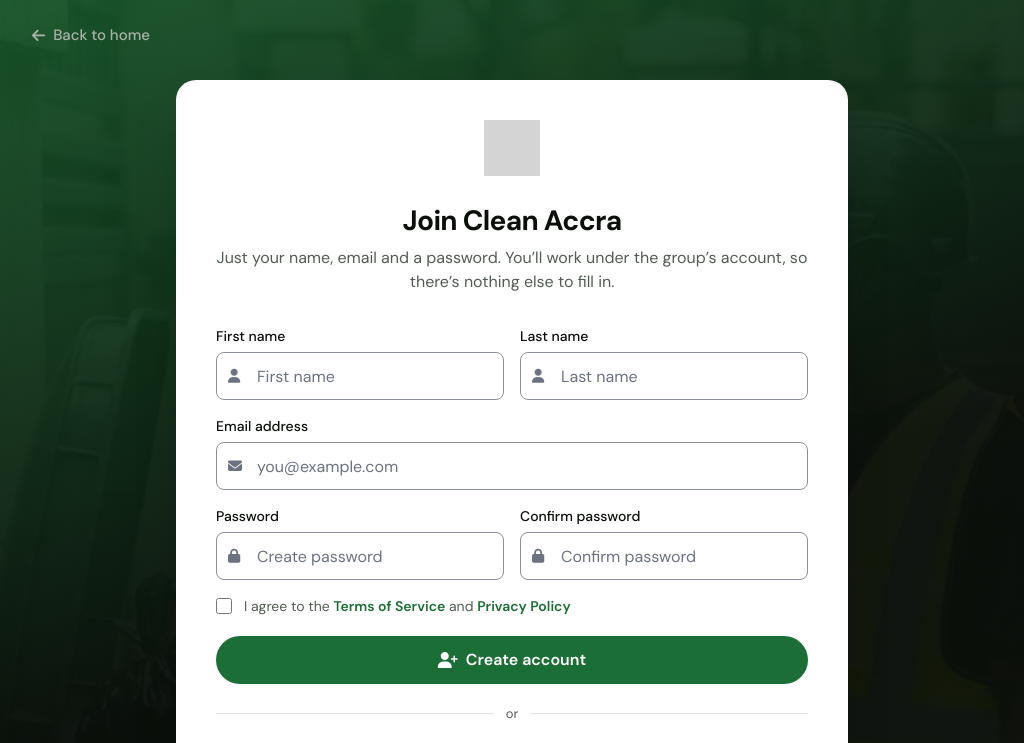
Scenario: through an invite link: asks only for the person’s own details and ties the account to the group
The width and height of the screenshot is (1024, 743).
Expected: the heading "Join Clean Accra" is shown, left=402, top=202, right=621, bottom=239
Type "Ama" into the field labelled "First name".
click(360, 376); type("Ama")  # box left=216, top=352, right=504, bottom=400
Type "Mensah" into the field labelled "Last name".
click(664, 376); type("Mensah")  # box left=520, top=352, right=808, bottom=400
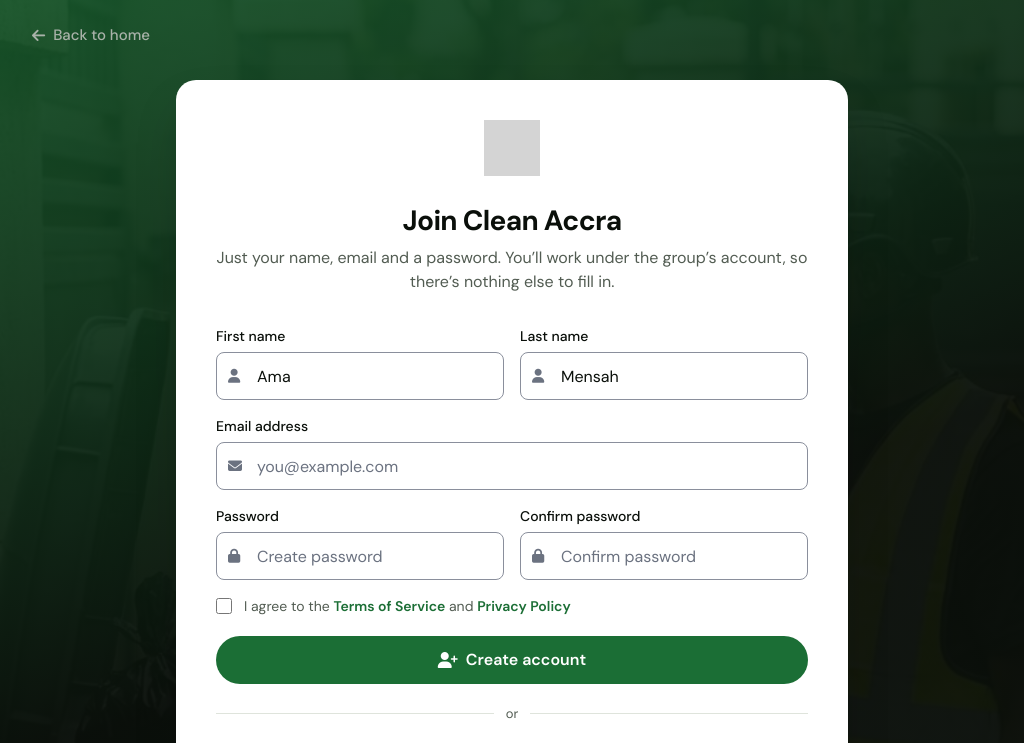
Type "ama@example.com" into the field labelled "Email address".
click(512, 466); type("ama@example.com")  # box left=216, top=442, right=808, bottom=490
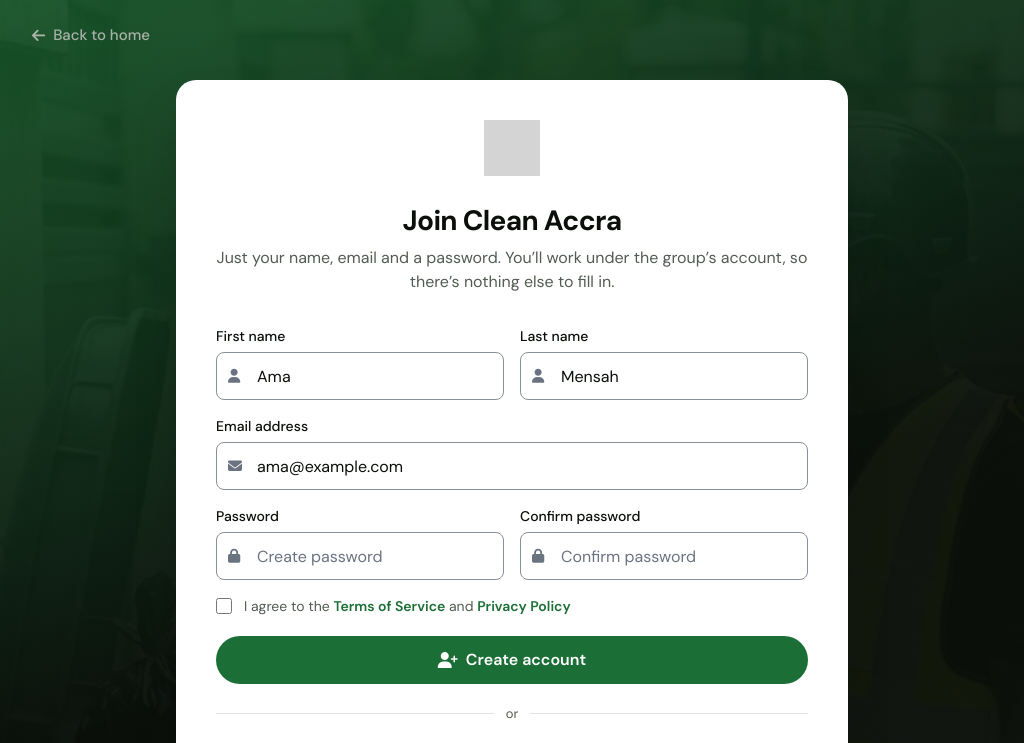
Type "Strong-pass1" into the password field labelled "Password".
click(360, 556); type("Strong-pass1")  # box left=216, top=532, right=504, bottom=580
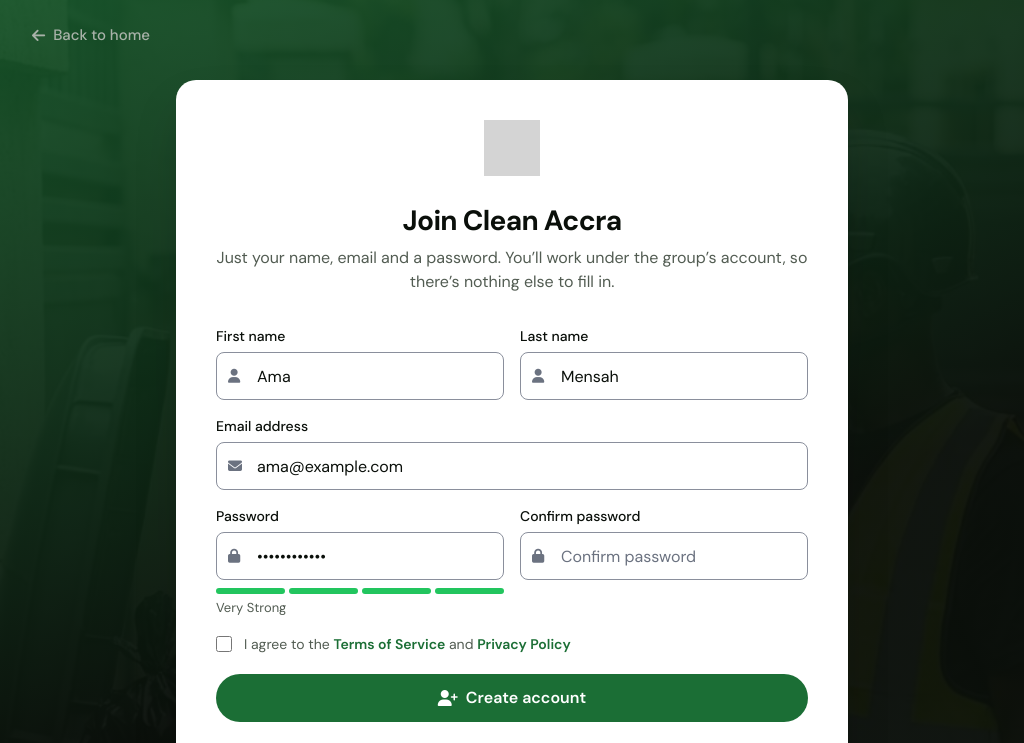
Type "Strong-pass1" into the password field labelled "Confirm password".
click(664, 556); type("Strong-pass1")  # box left=520, top=532, right=808, bottom=580
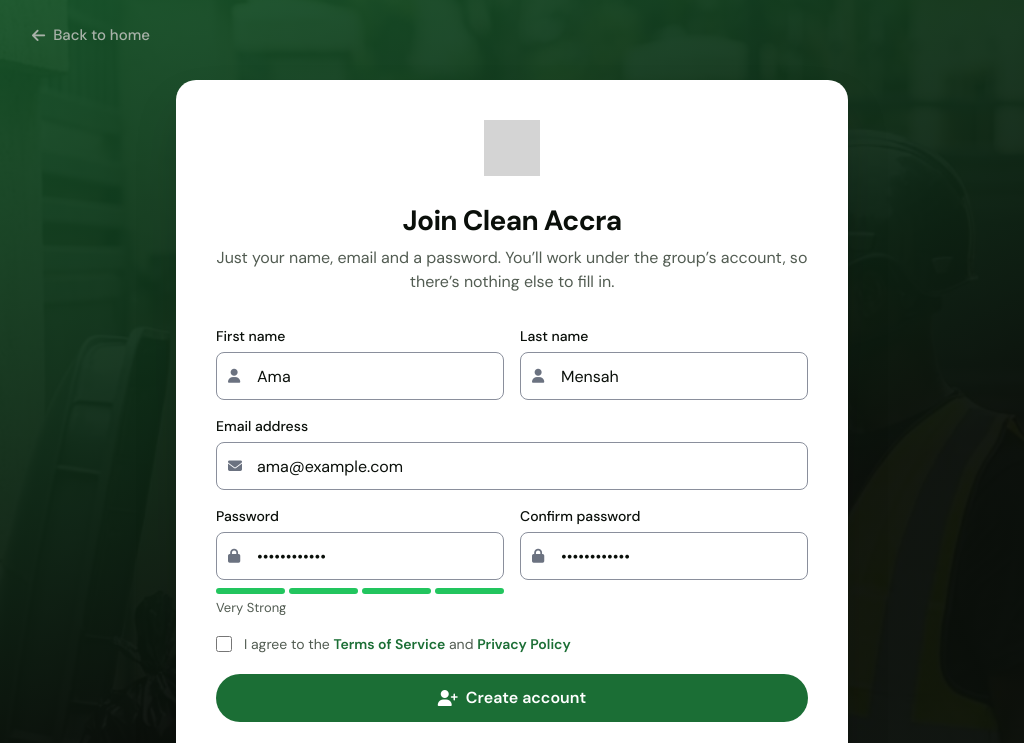
Click the checkbox.
click(224, 644)  # box left=216, top=636, right=232, bottom=652
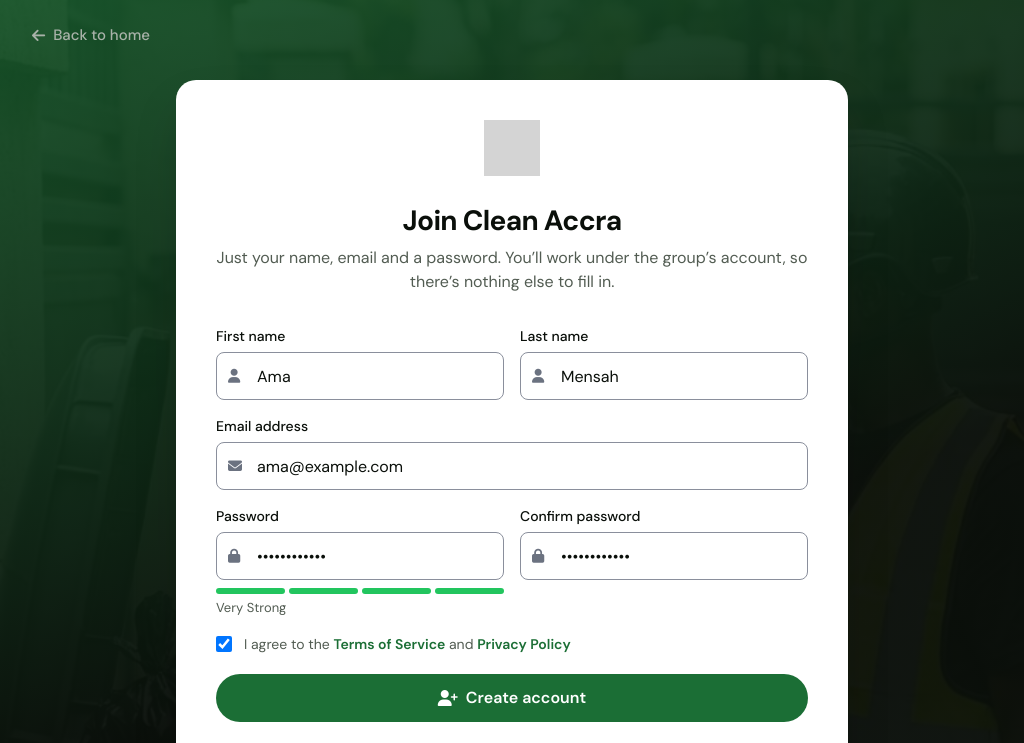
Click the button "Create account".
click(512, 698)  # box left=216, top=674, right=808, bottom=722
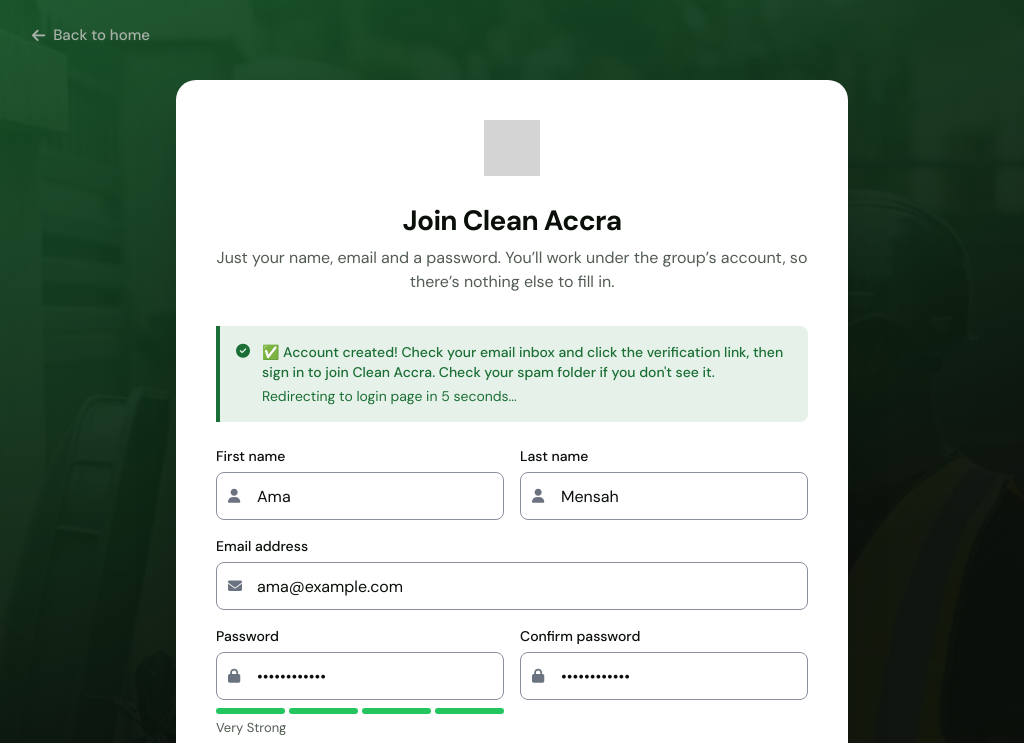
Expected: the text "sign in to join Clean Accra" is shown, left=262, top=343, right=783, bottom=381
